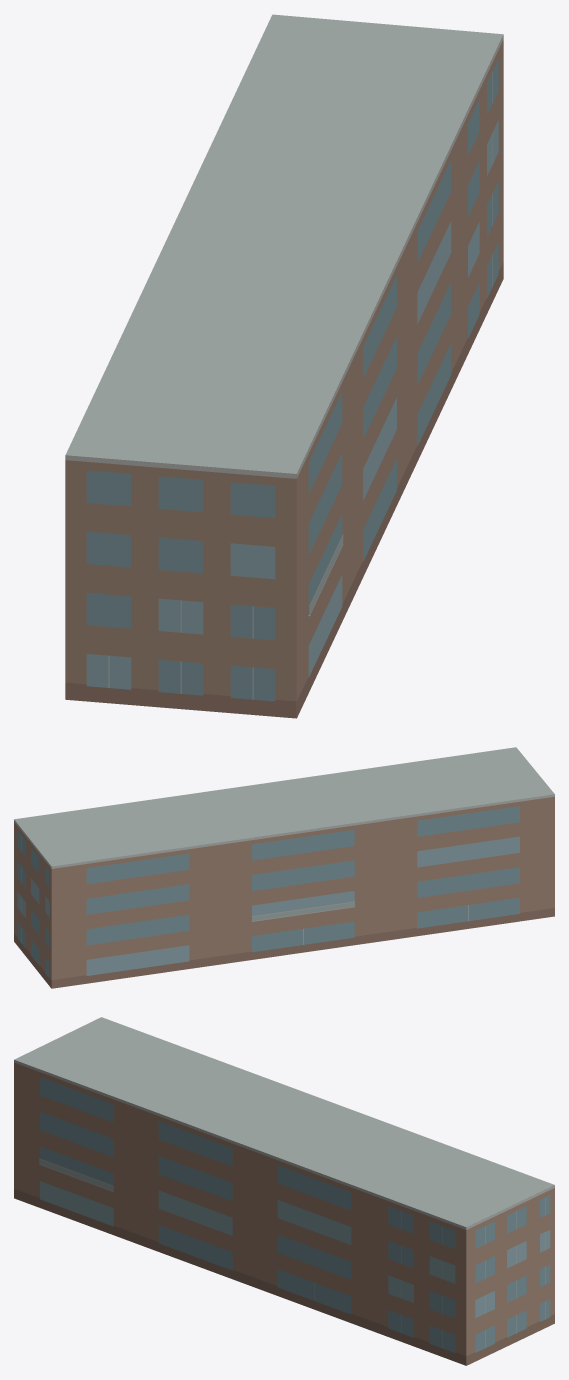
The model's file is survey-upis-32755414.glb.
3 views of the same model, one above another, from view 1: azimuth 30°, elevation 25°; view 2: azimuth 150°, elevation 25°; view 3: azimuth 270°, elevation 25° (orthographic). The views are drawn at different scales.
Visible parts, largest first — view 1: survey-upis-32755414.tmp; view 2: survey-upis-32755414.tmp; view 3: survey-upis-32755414.tmp.
Part boxes in pixels (<box>): survey-upis-32755414.tmp: <box>65,14,503,718</box>; survey-upis-32755414.tmp: <box>14,747,554,988</box>; survey-upis-32755414.tmp: <box>14,1017,554,1365</box>.
Size of the model in its own units: 39.7 by 12.2 by 43.15.
